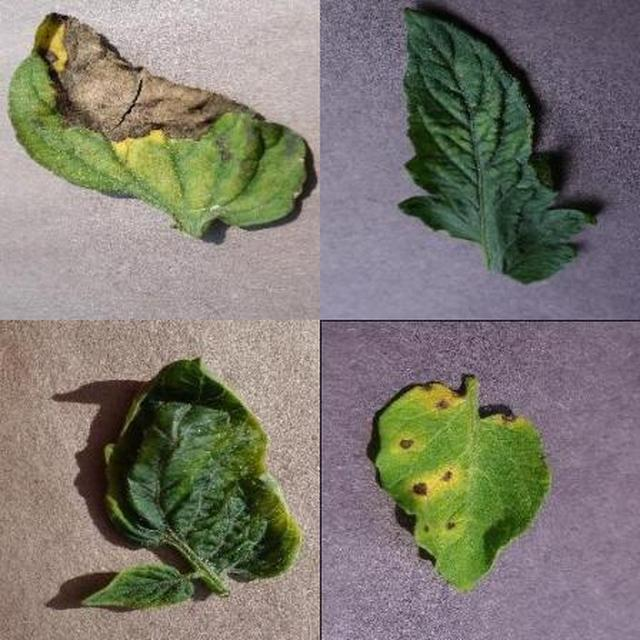Late Blight Leaf: (161, 65, 640, 640)
